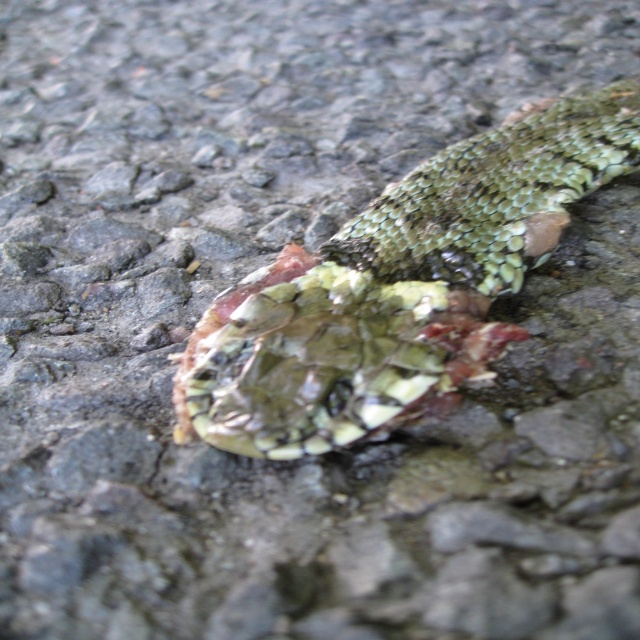Lizard: (179, 76, 637, 461)
